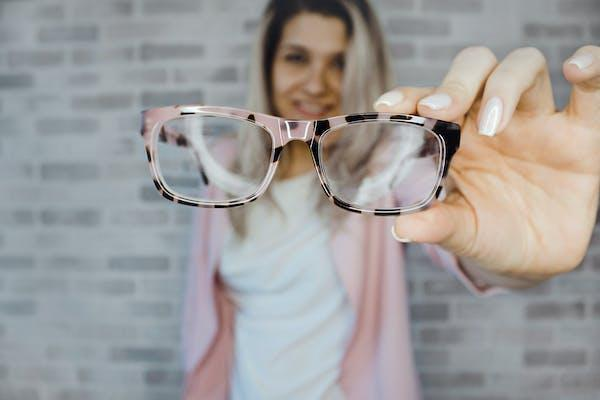eyeglasses: (130, 93, 468, 226)
